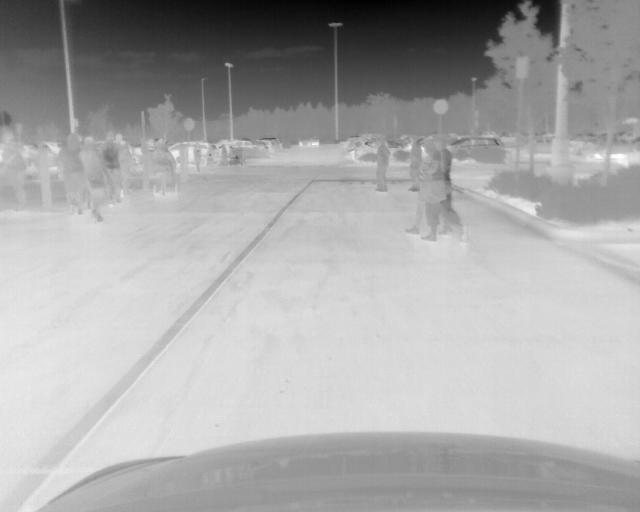car: (446, 137, 504, 160), (169, 140, 218, 165), (354, 140, 408, 161), (235, 139, 266, 156), (299, 136, 318, 145)
people: (420, 142, 469, 242), (403, 137, 452, 236), (59, 134, 84, 215), (4, 136, 30, 212), (147, 137, 175, 199), (83, 137, 101, 223), (100, 131, 120, 208), (372, 140, 389, 193), (119, 134, 132, 197), (406, 138, 418, 194), (194, 143, 203, 175), (206, 144, 215, 173), (218, 143, 227, 166)
